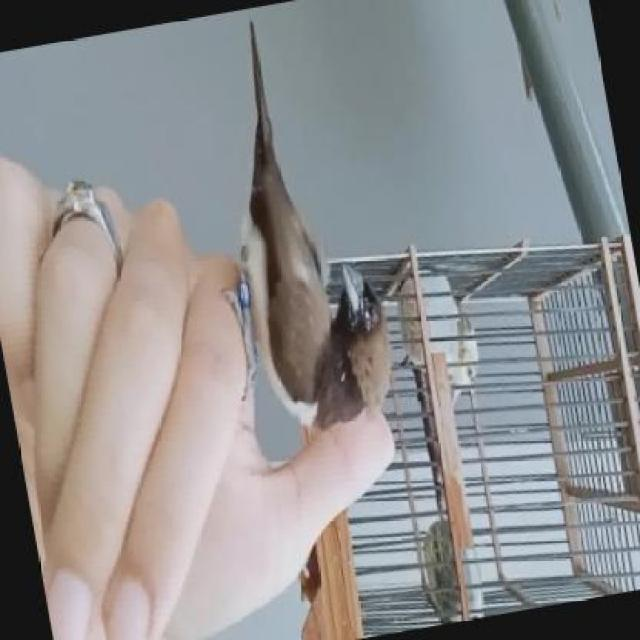Bird: (233, 14, 428, 452)
